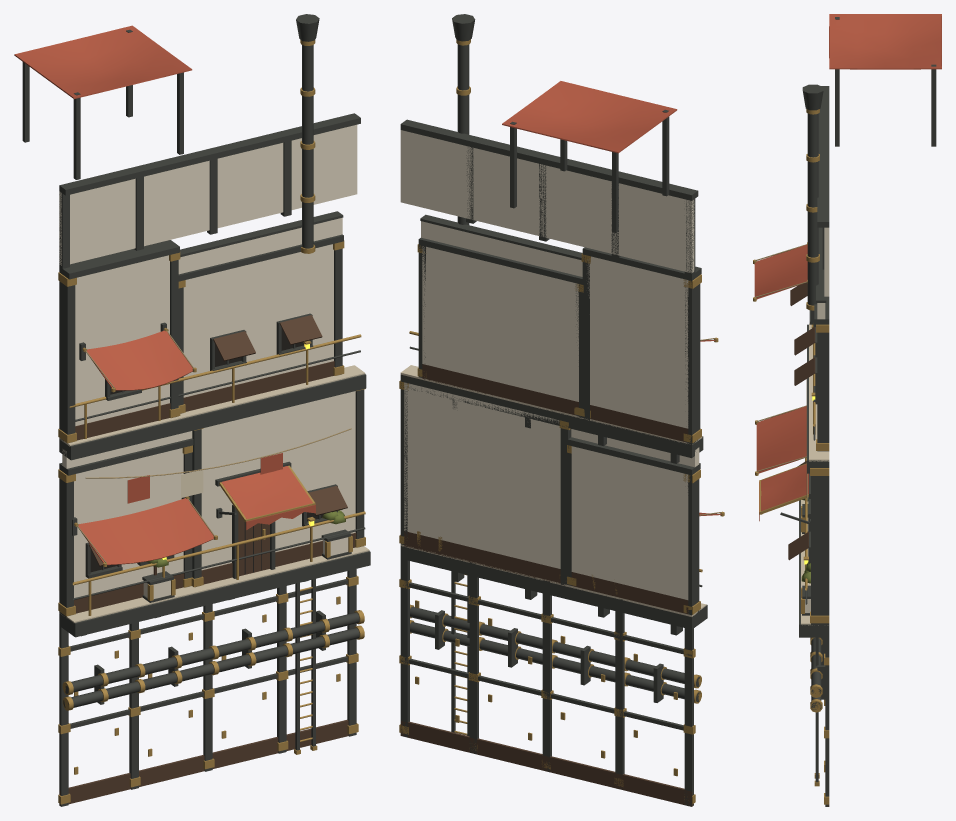
Rendered from terrace_b.glb.
3 views of the same model, side by side, from view 1: azimuth 30°, elevation 25°; view 2: azimuth 150°, elevation 25°; view 3: azimuth 270°, elevation 25° (orthographic). The views are drawn at different scales.
Visible parts, largest first — view 1: terrace_b; view 2: terrace_b; view 3: terrace_b.
Boxes of the visible parts, x1=… form: terrace_b: x1=14, y1=14, x2=370, y2=806; terrace_b: x1=399, y1=14, x2=724, y2=806; terrace_b: x1=753, y1=14, x2=941, y2=806.
Size of the model in its own units: 8.06 by 19 by 4.7.
